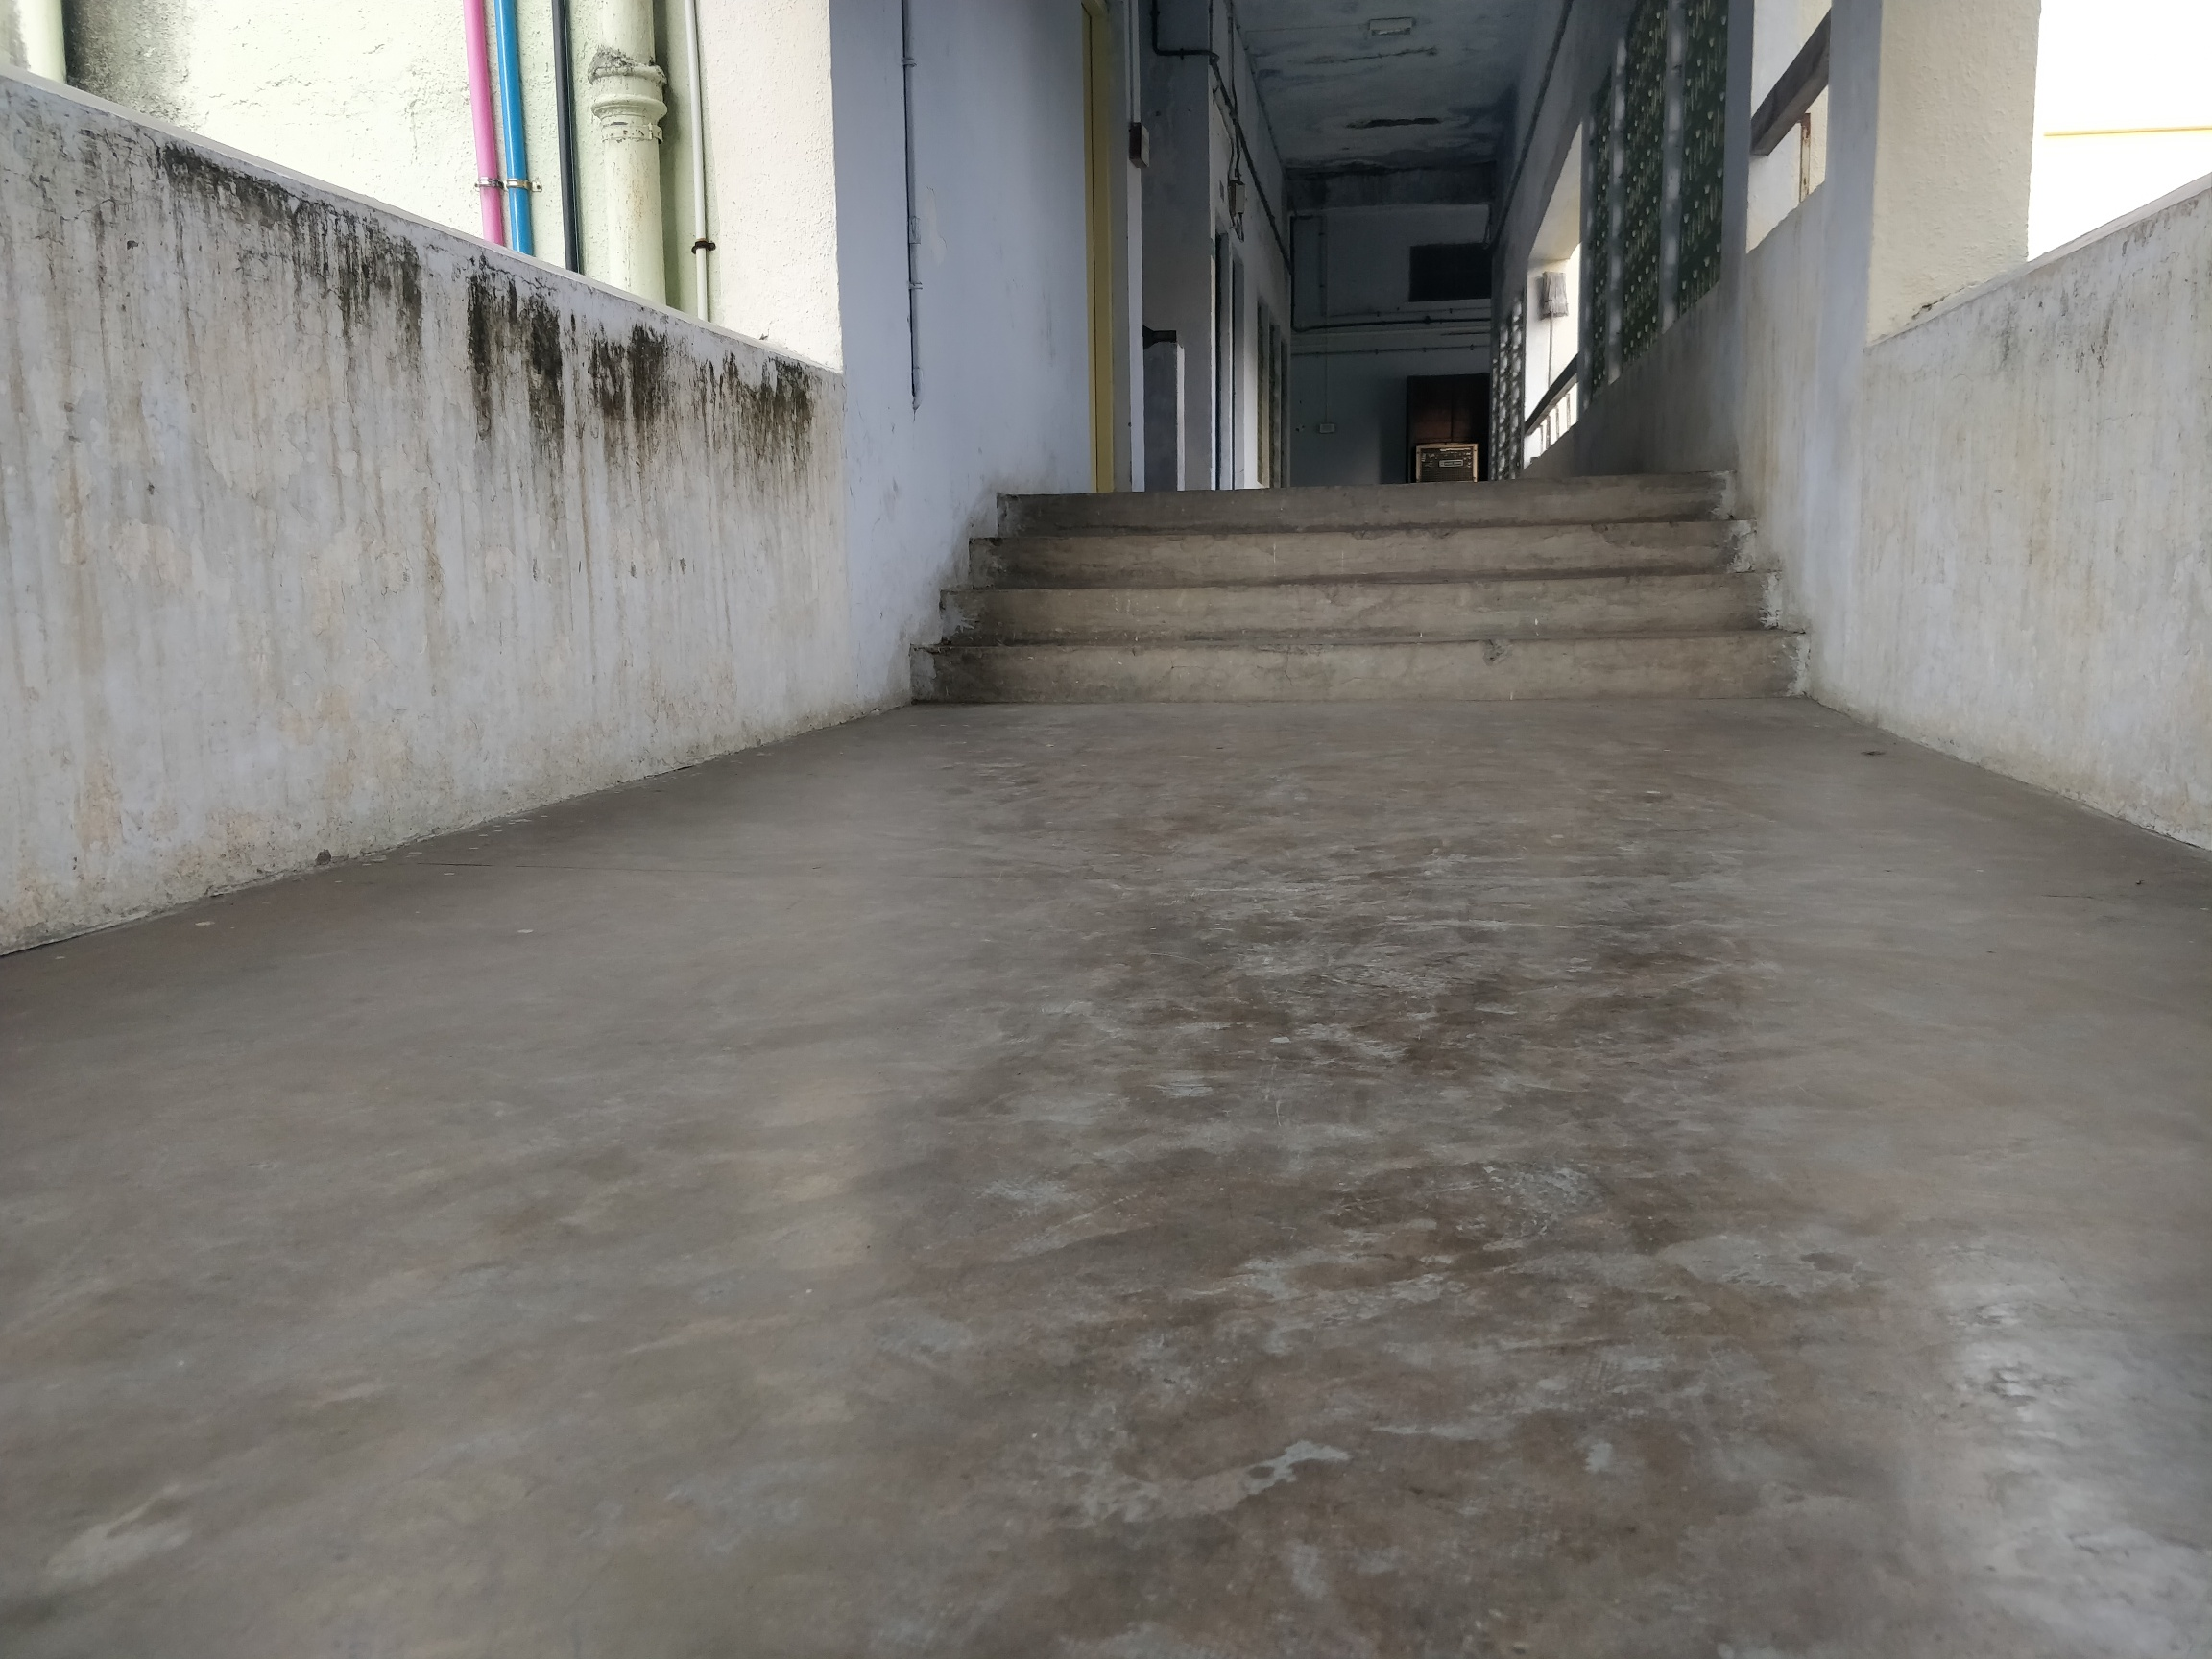stairs_up: (907, 484, 1817, 727)
